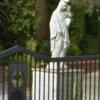Statue: (38, 0, 84, 70)
